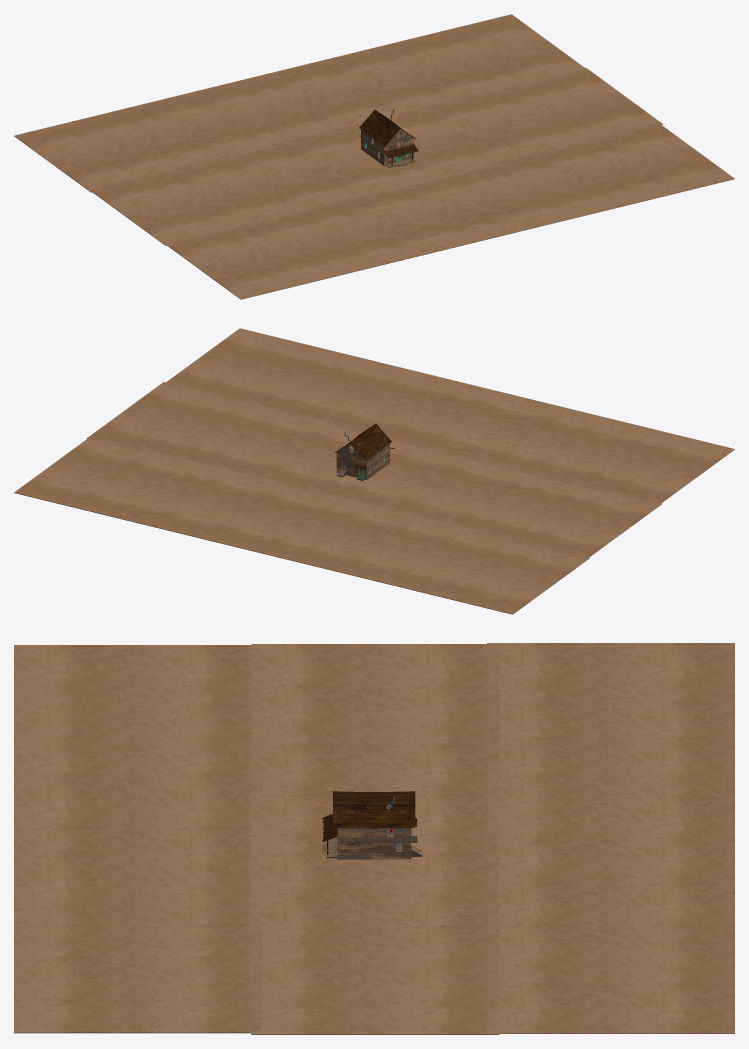
The picture shows the model from 3 angles, top to bottom: view 1: azimuth 30°, elevation 25°; view 2: azimuth 150°, elevation 25°; view 3: azimuth 270°, elevation 25°; orthographic projection. The views are drawn at different scales.
Visible parts, largest first — view 1: Object_9 (×17), Object_40, Object_37; view 2: Object_9 (×17), Object_37, Object_40; view 3: Object_9 (×17), Object_40, Object_37.
Boxes of the visible parts, x1=… form: Object_9 (×17): x1=14, y1=14, x2=734, y2=299; Object_40: x1=359, y1=109, x2=418, y2=165; Object_37: x1=361, y1=129, x2=415, y2=167; Object_9 (×17): x1=14, y1=328, x2=734, y2=614; Object_37: x1=336, y1=429, x2=391, y2=479; Object_40: x1=334, y1=423, x2=394, y2=470; Object_9 (×17): x1=14, y1=643, x2=734, y2=1034; Object_40: x1=322, y1=791, x2=417, y2=854; Object_37: x1=322, y1=827, x2=422, y2=859.
Bounding box in the file's own units: 121 × 10.54 × 94.32.
Materials: 72 (45 with a texture image).
